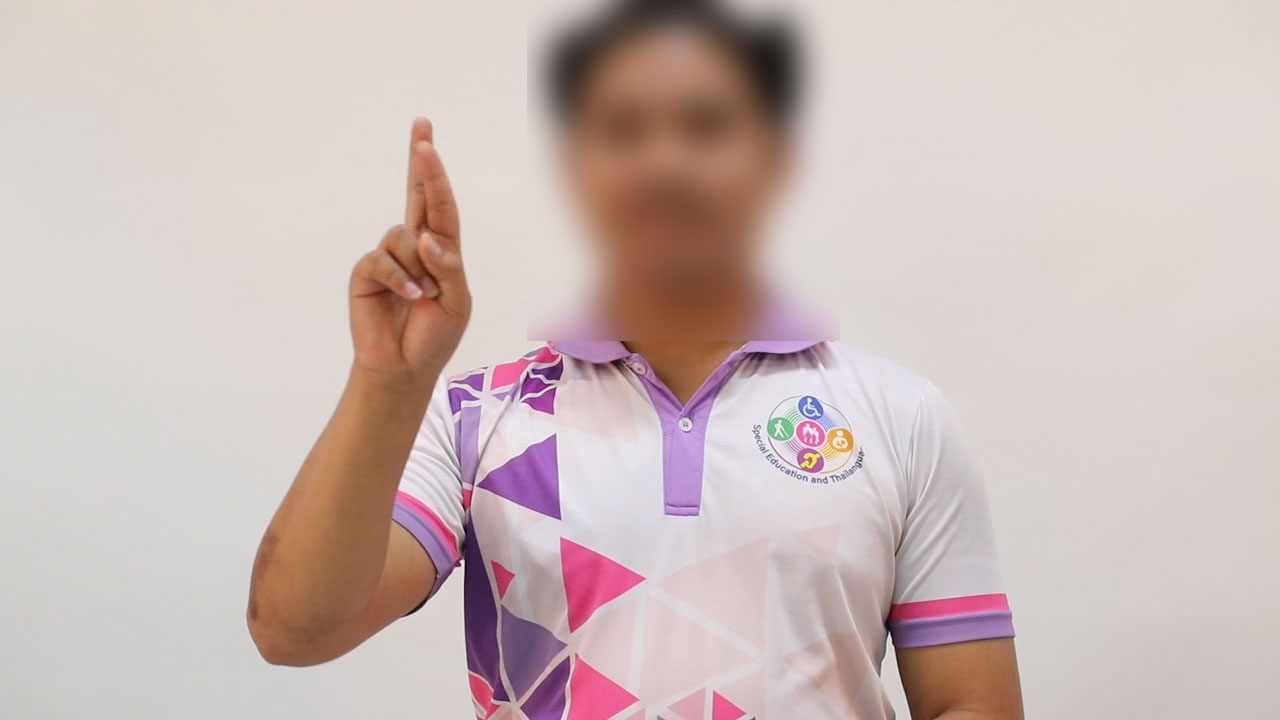rao: (315, 110, 477, 373)
